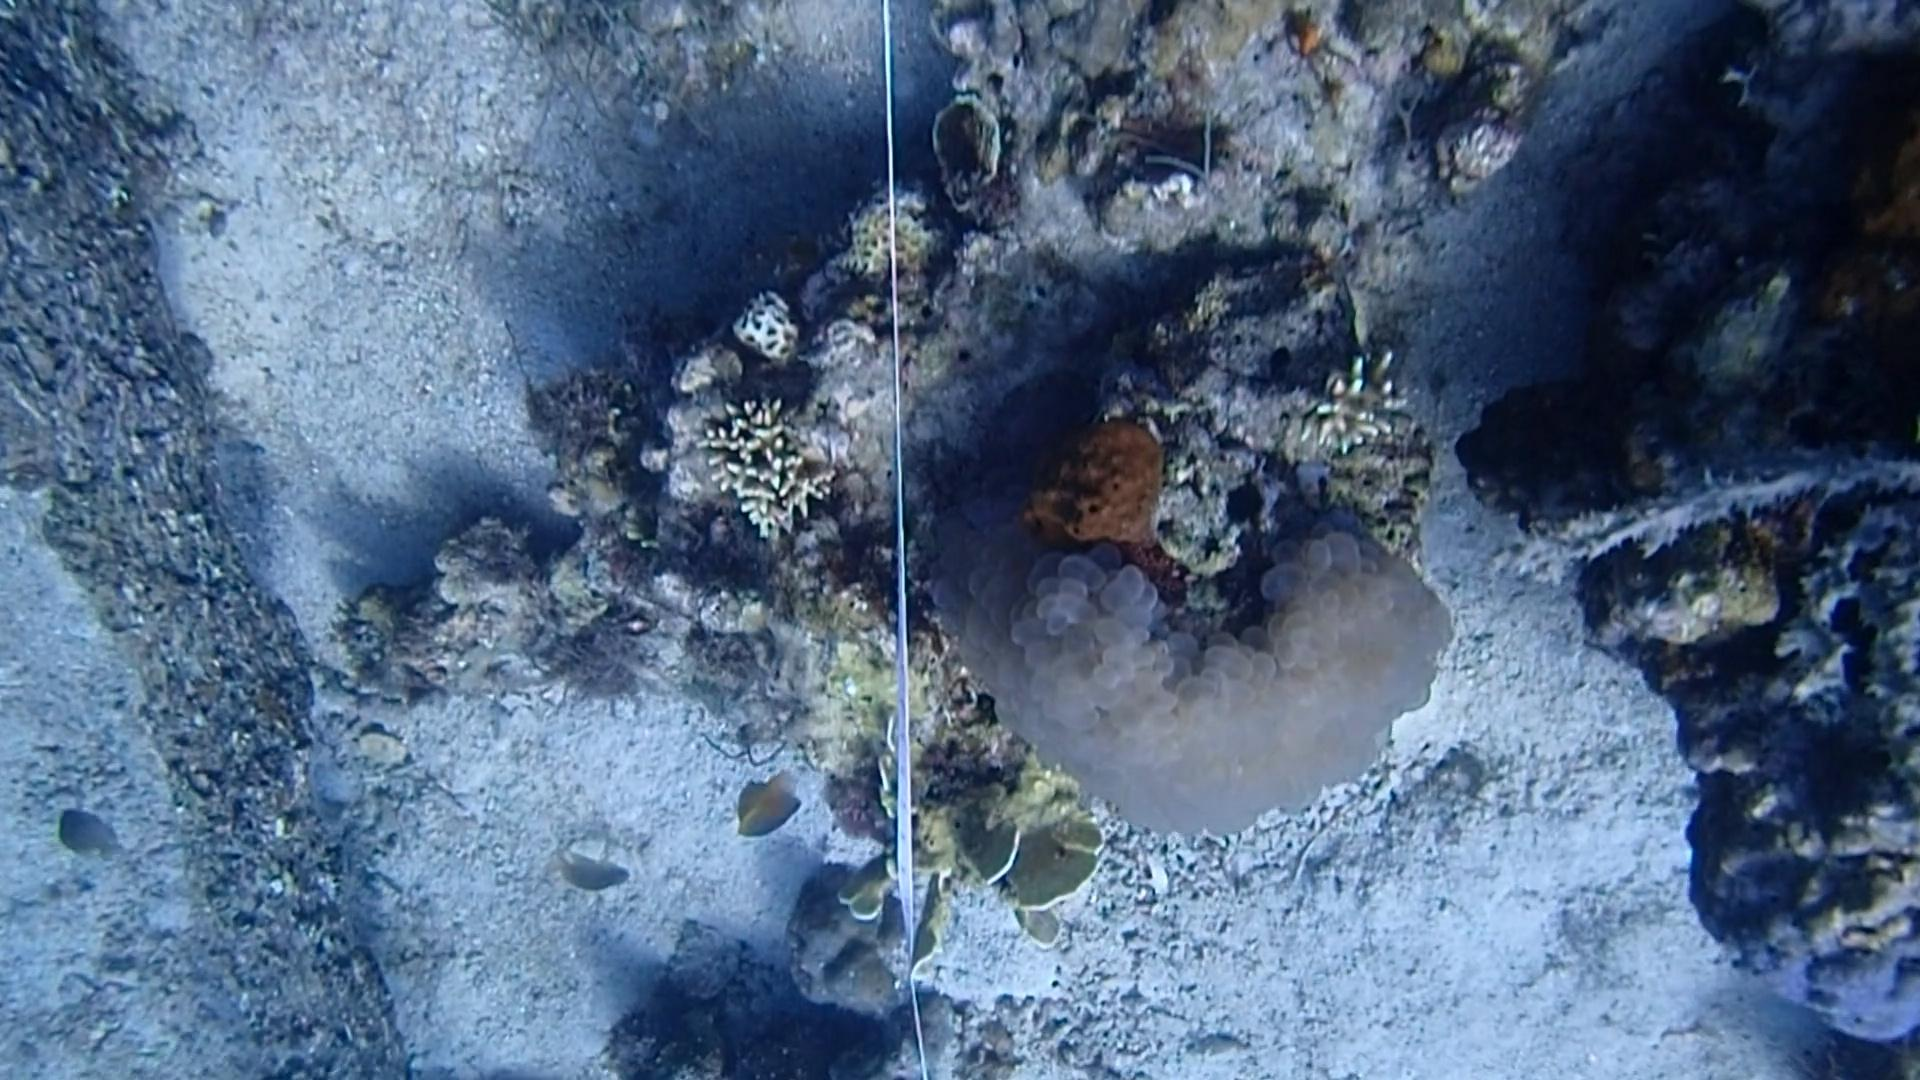Light Fish: (45, 795, 137, 873), (546, 847, 641, 902)
Yellow-Blue Fish: (719, 767, 816, 848)
